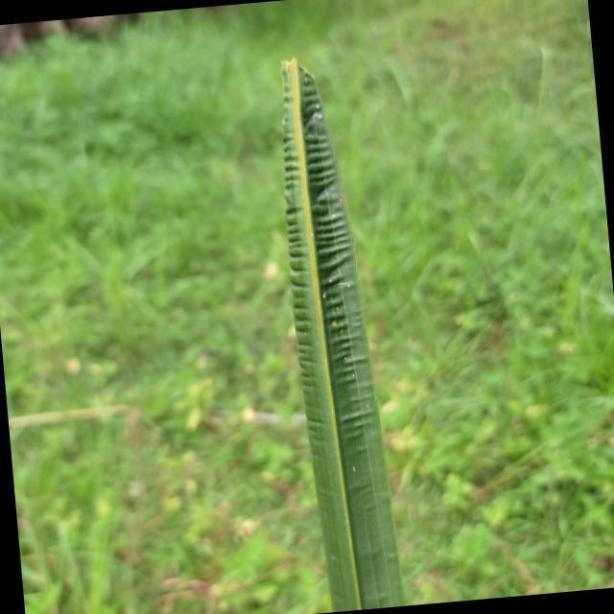Boron: (276, 41, 408, 614)
